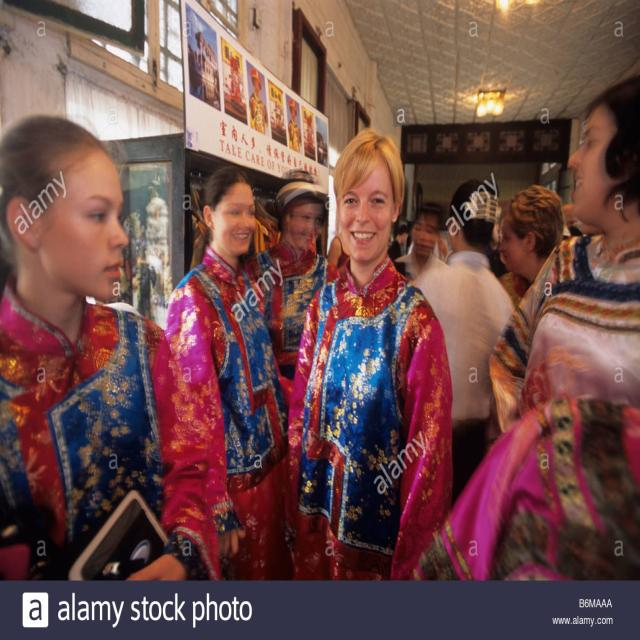body: (1, 112, 227, 582), (474, 75, 640, 581), (286, 128, 454, 581), (159, 159, 294, 581), (416, 177, 518, 508), (244, 168, 344, 406), (187, 4, 331, 158), (386, 176, 482, 288), (484, 185, 570, 302)
